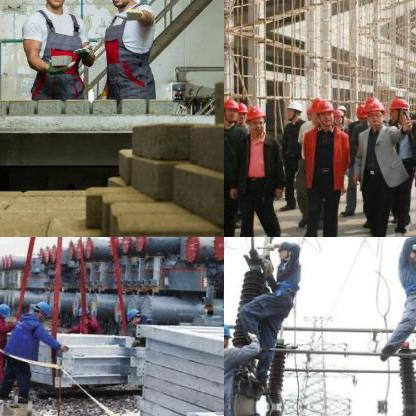Helmet: (362, 96, 384, 124), (386, 93, 408, 121), (244, 102, 264, 132), (314, 96, 334, 124), (283, 96, 303, 120), (224, 96, 241, 123), (30, 300, 51, 320), (331, 105, 345, 127), (122, 305, 140, 321), (352, 102, 366, 122), (224, 318, 233, 349), (0, 300, 10, 320), (406, 241, 415, 263)
